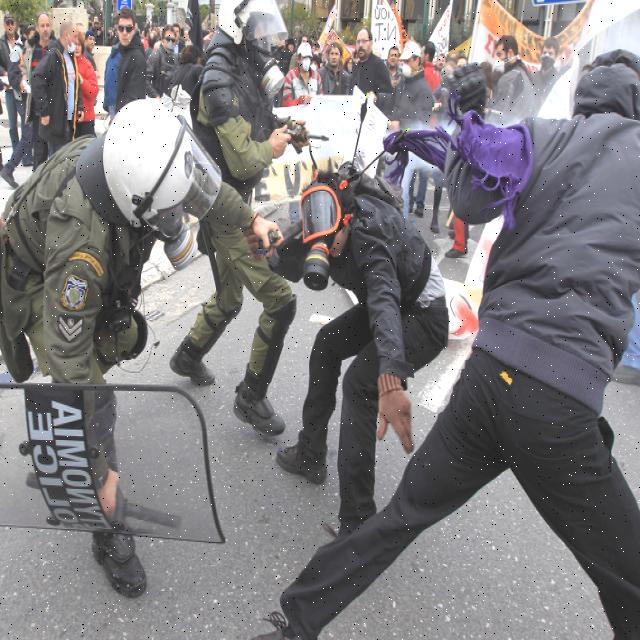police: (0, 77, 235, 640), (197, 0, 354, 443)
